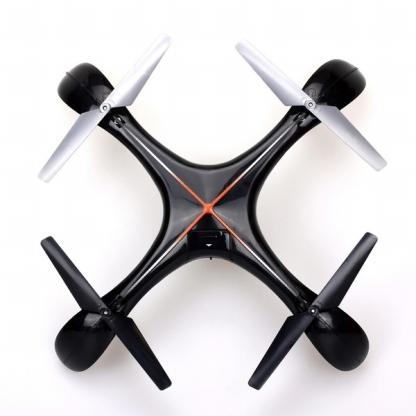drone: (28, 56, 408, 387)
